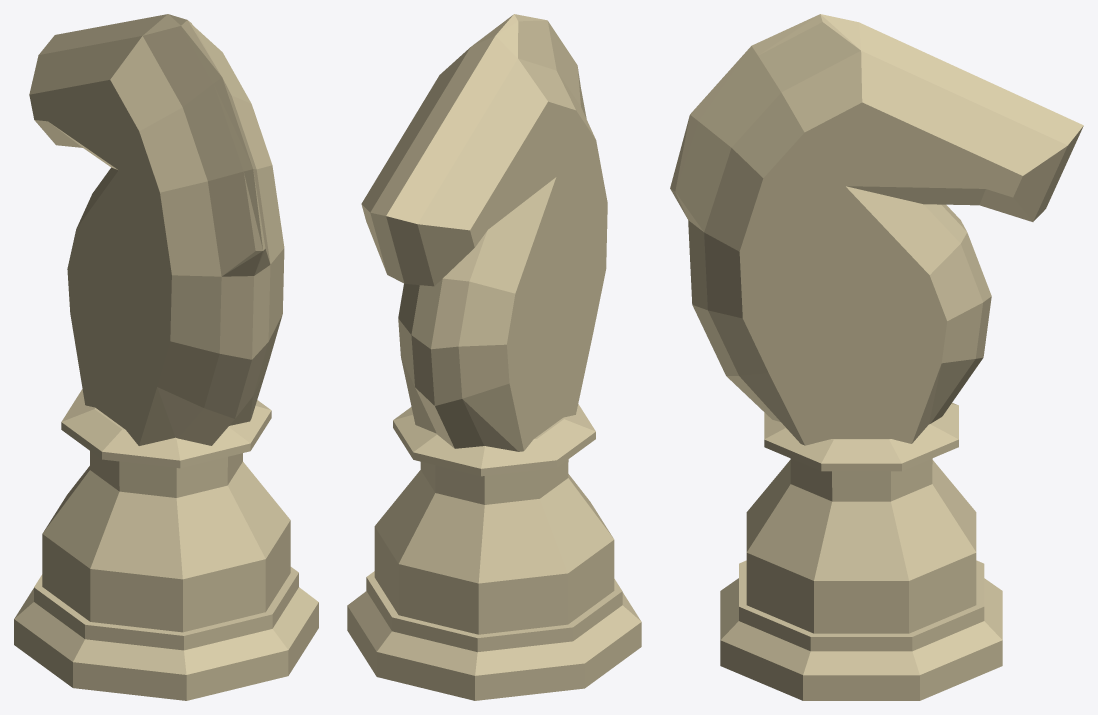
Rendered from knight.fbx.
3 views of the same model, side by side, from view 1: azimuth 30°, elevation 25°; view 2: azimuth 150°, elevation 25°; view 3: azimuth 270°, elevation 25° (orthographic). The views are drawn at different scales.
Visible parts, largest first — view 1: Cylinder_4; view 2: Cylinder_4; view 3: Cylinder_4.
Boxes of the visible parts, <box> form: Cylinder_4: <box>14,14,318,700</box>; Cylinder_4: <box>347,14,641,700</box>; Cylinder_4: <box>670,14,1083,700</box>.
Bounding box in the file's own units: 126 × 309 × 185.
